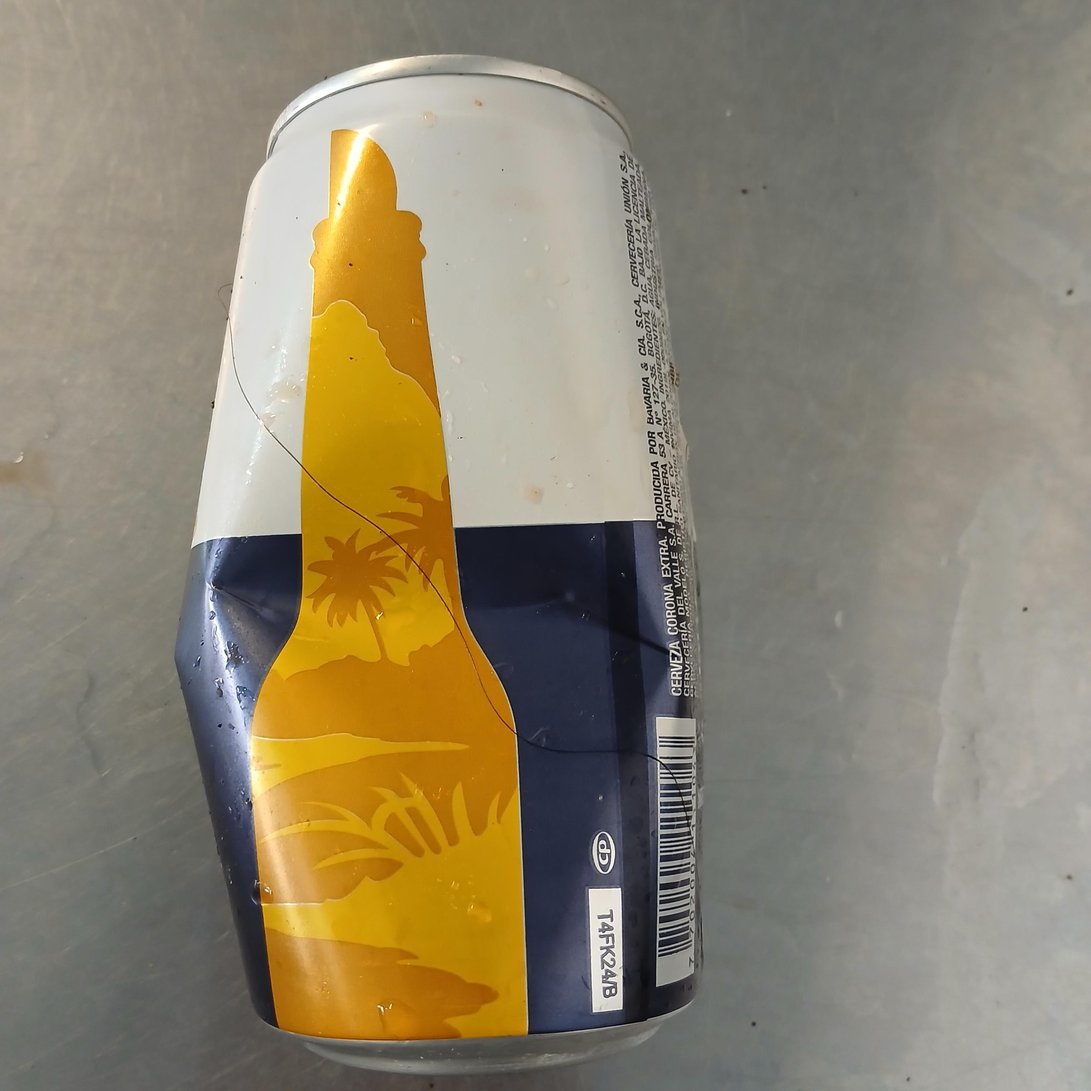Metal: (177, 52, 705, 1074)
